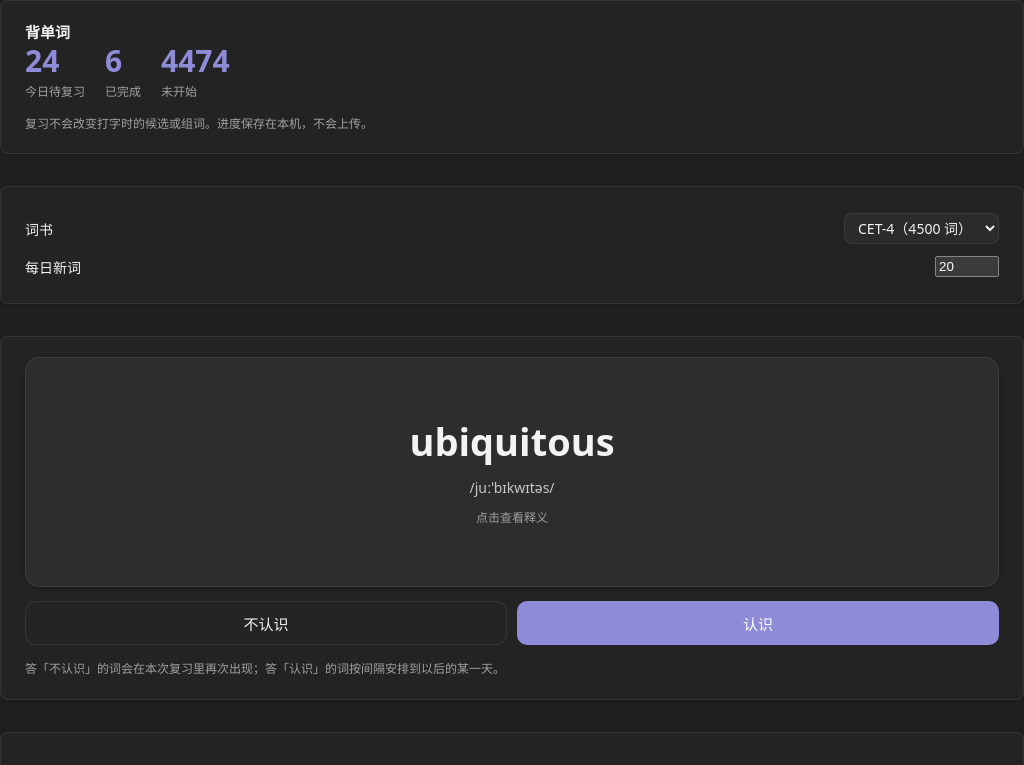
Test case: answering sends the grade and hides the next card's meaning again
Click the button with aria-label "显示 ubiquitous 的释义" at (512, 472), box [25,357,999,587]
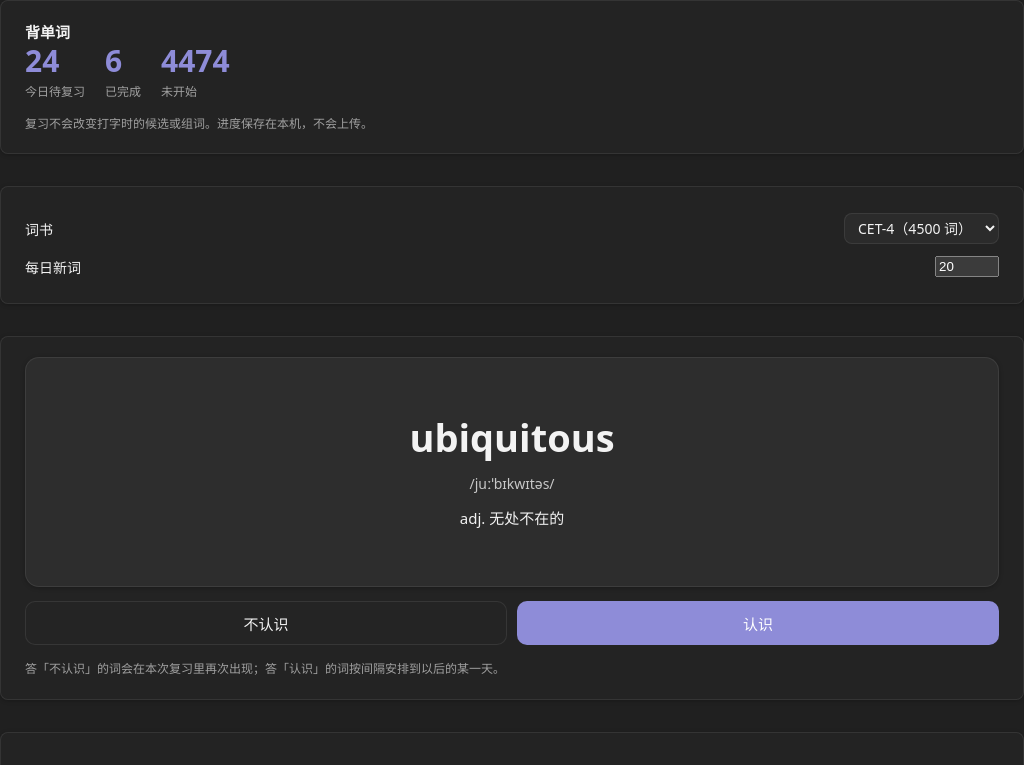
Now the text "adj. 无处不在的" is shown, box [460,506,564,530]
Click the button "认识" at (758, 623), box [517,601,999,645]
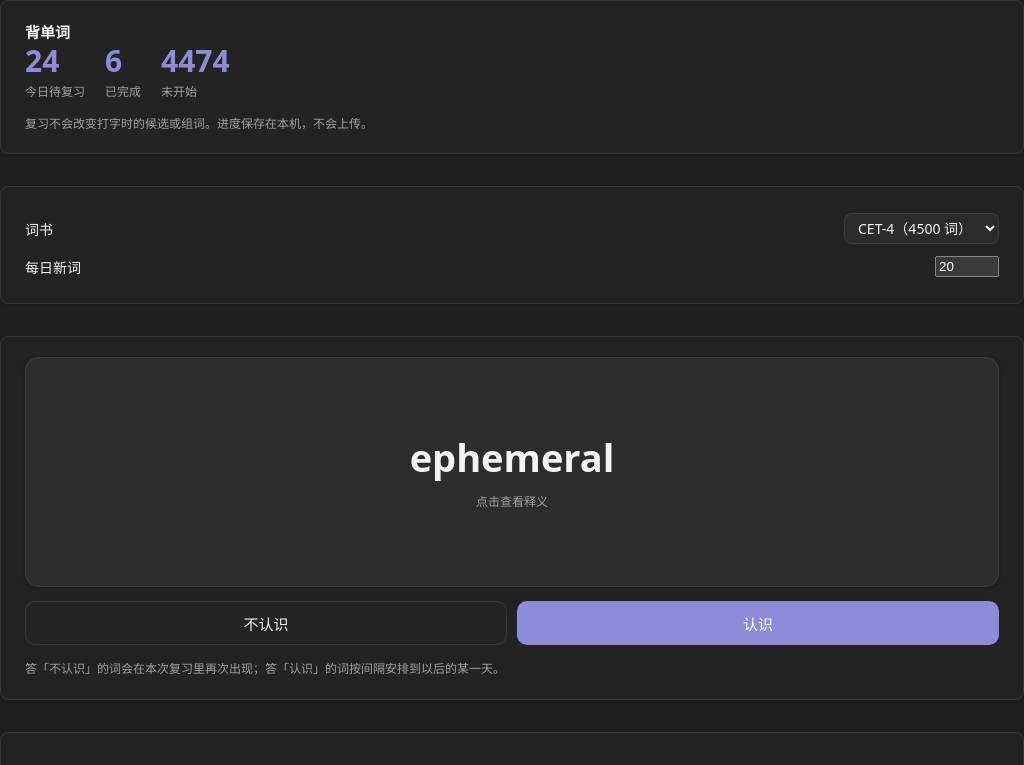
Now the text "ephemeral" is shown, box [410,434,614,482]
Now the text "点击查看释义" is shown, box [476,494,548,510]
